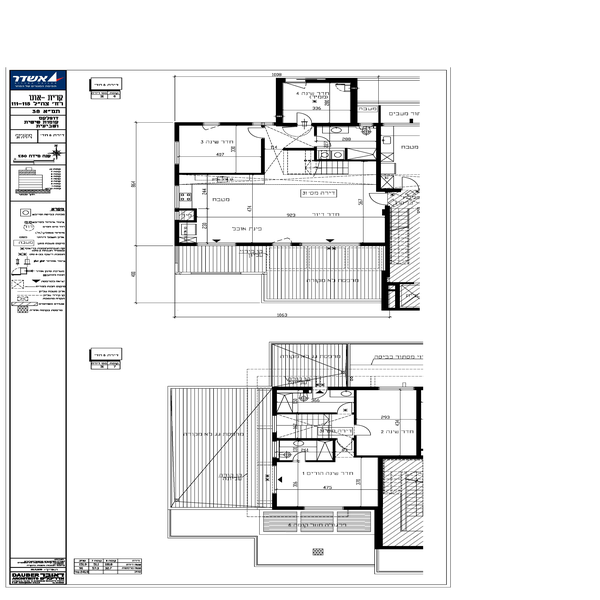door: (292, 109, 314, 130), (400, 171, 420, 191), (370, 191, 394, 207), (350, 424, 379, 437), (293, 447, 308, 465), (337, 404, 354, 418)
wall: (378, 459, 386, 546), (177, 171, 262, 178), (327, 384, 381, 394), (276, 75, 286, 124), (307, 75, 357, 84), (417, 387, 423, 455), (353, 240, 388, 251), (376, 115, 381, 190), (272, 382, 310, 391), (237, 240, 275, 248), (351, 84, 358, 127), (314, 122, 355, 129), (271, 504, 302, 512), (387, 213, 391, 271), (223, 120, 252, 128), (383, 271, 388, 310), (261, 138, 267, 168), (173, 121, 198, 126)
